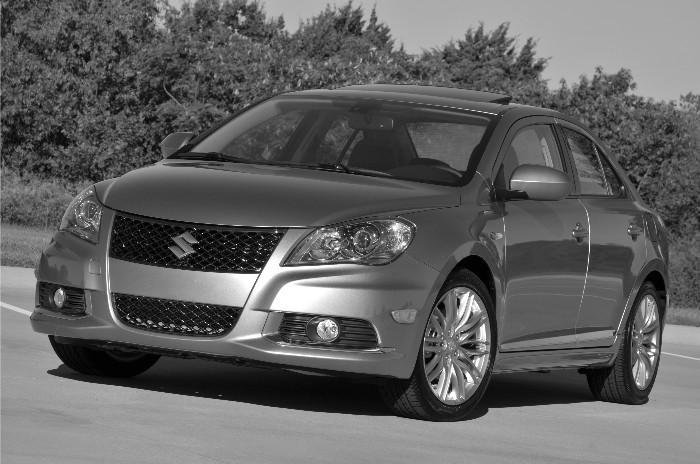car: (30, 85, 674, 416)
